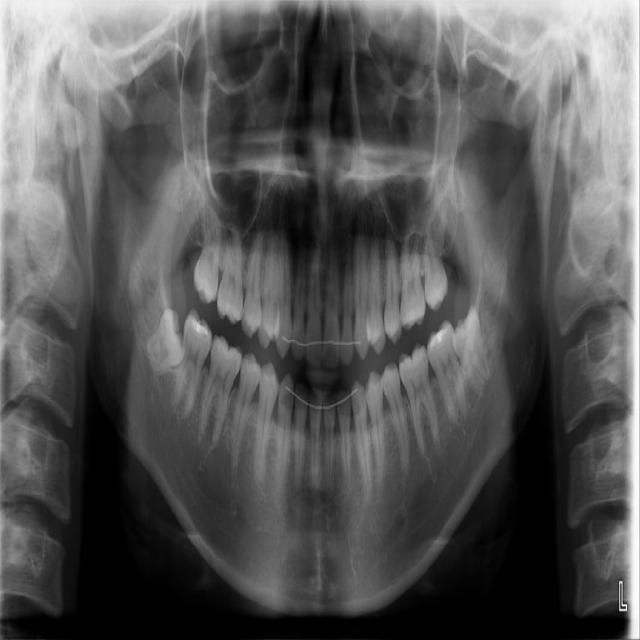Filling: (189, 318, 211, 340), (429, 327, 448, 351)
impacted tooth: (454, 309, 488, 392), (144, 308, 184, 370)
